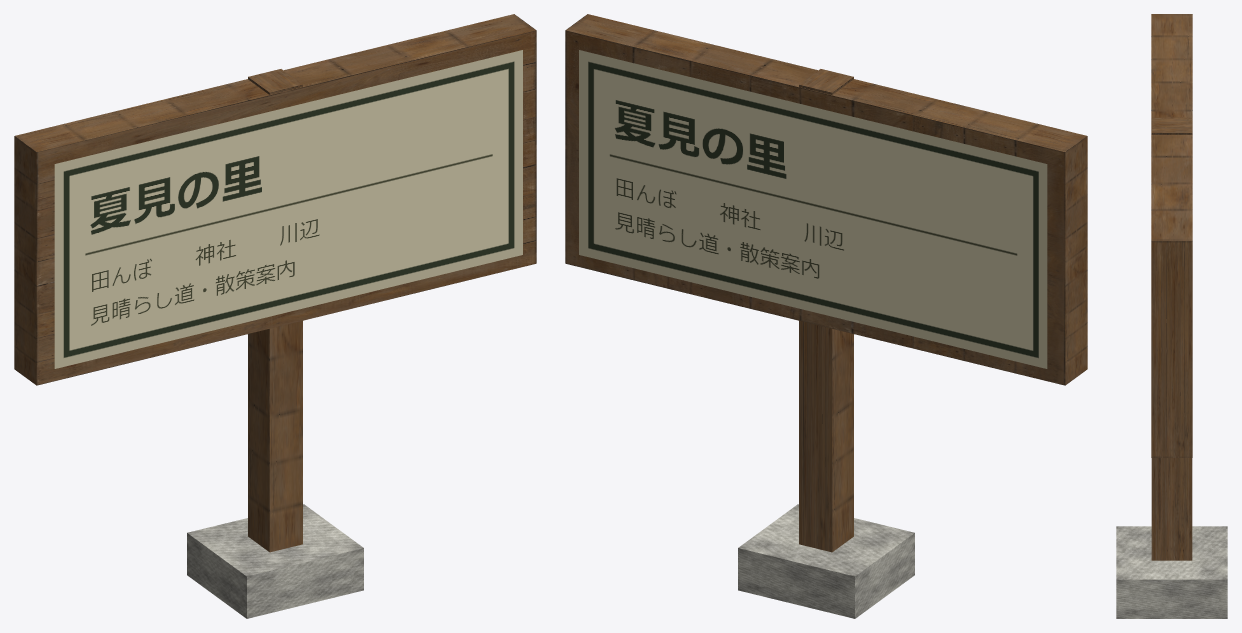
File: valley-wayfinding-board.obj
3 views of the same model, side by side, from view 1: azimuth 30°, elevation 25°; view 2: azimuth 150°, elevation 25°; view 3: azimuth 270°, elevation 25° (orthographic). The views are drawn at different scales.
Size of the model in its own units: 2.22 by 2.13 by 0.46.
3 materials, 3 textured.
